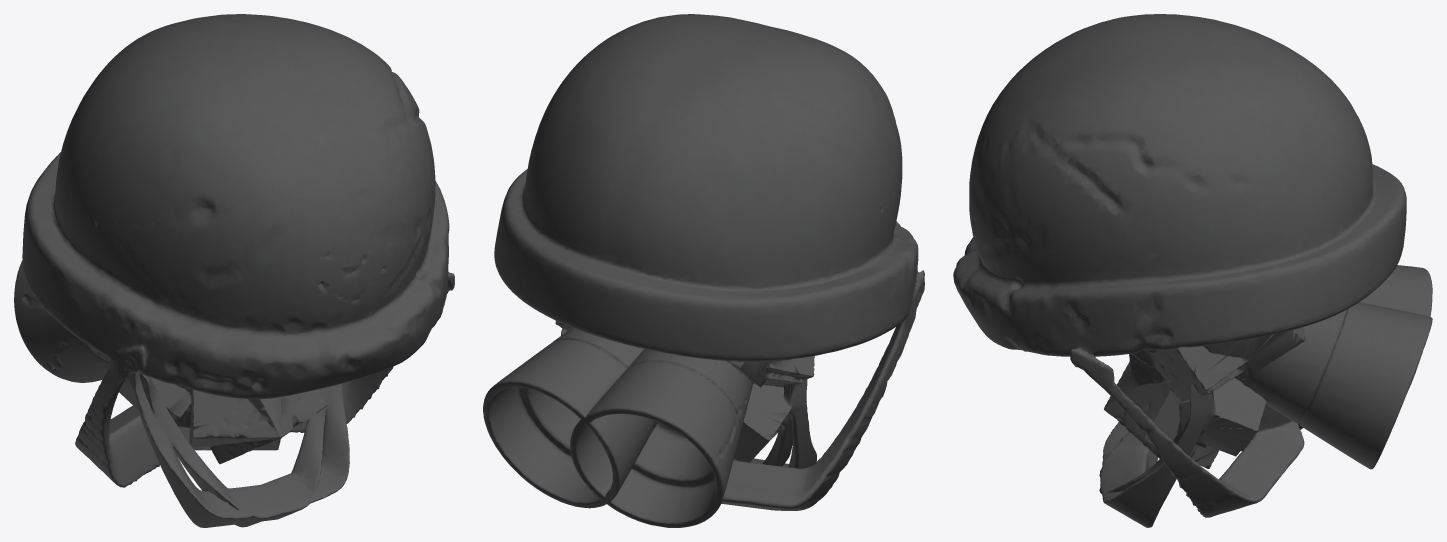
Rendered from SoldierBot.fbx.
3 renders of one model, left to right at view 1: azimuth 30°, elevation 25°; view 2: azimuth 150°, elevation 25°; view 3: azimuth 270°, elevation 25°, orthographic.
Visible parts, largest first — view 1: Layer_2, Layer_1; view 2: Layer_2, Layer_1; view 3: Layer_2, Layer_1.
Part boxes in pixels (<box>): Layer_2: <box>22,14,454,487</box>; Layer_1: <box>14,260,349,527</box>; Layer_2: <box>494,14,924,510</box>; Layer_1: <box>483,321,816,527</box>; Layer_2: <box>953,14,1406,517</box>; Layer_1: <box>1099,265,1432,527</box>.
Size of the model in its own units: 0.8805 by 1.01 by 1.09.
